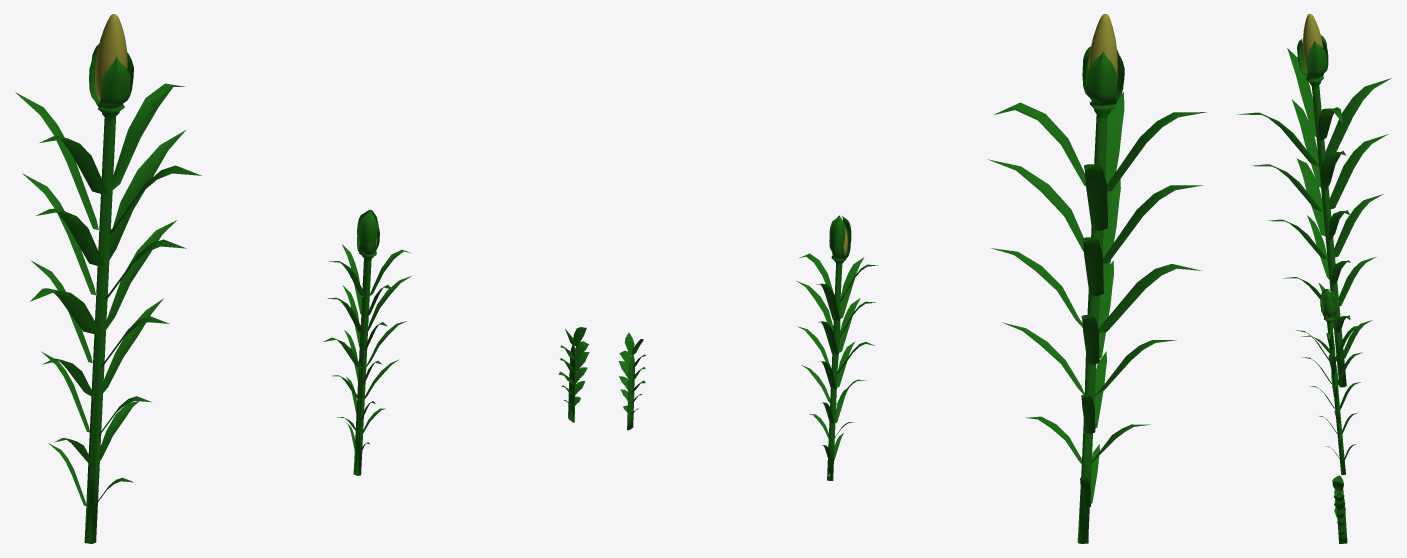
Rendered from corn.fbx.
3 renders of one model, left to right at view 1: azimuth 30°, elevation 25°; view 2: azimuth 150°, elevation 25°; view 3: azimuth 270°, elevation 25°, orthographic. The views are drawn at different scales.
Parts seen in each view (by area): view 1: model_0, model_1; view 2: model_0, model_1; view 3: model_0, model_1.
Boxes of the visible parts, x1,y1,x2,y2 form: model_0: (15, 44, 589, 543); model_1: (95, 14, 377, 245); model_0: (618, 46, 1206, 543); model_1: (840, 14, 1117, 255); model_0: (1237, 35, 1391, 543); model_1: (1303, 14, 1334, 317).
Size of the model in its own units: 10520 by 9264 by 3532.
